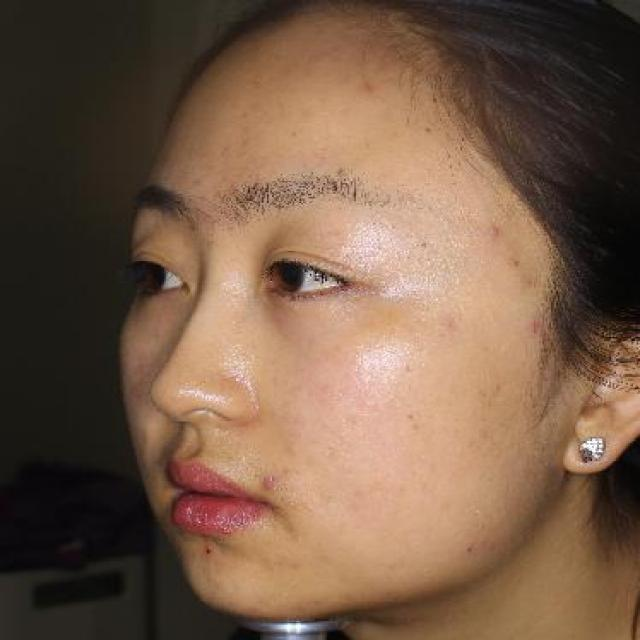papules: (256, 471, 292, 497)
pustules: (479, 218, 517, 244)
